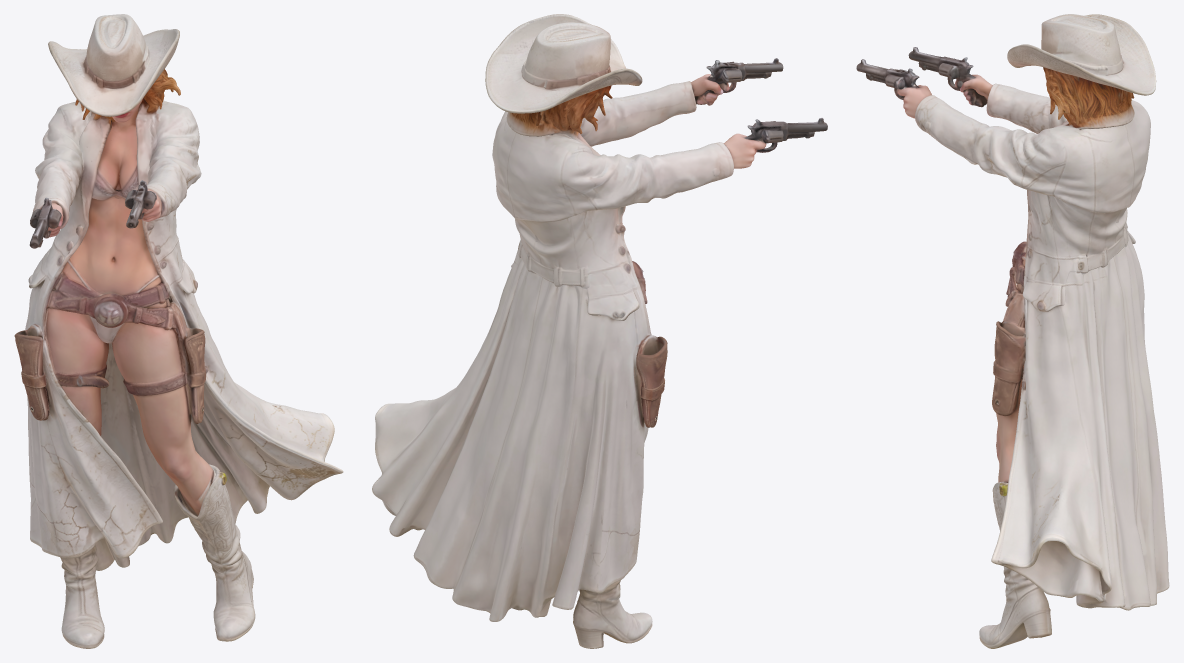
File: female-cowgirl-v4.glb
The picture shows the model from 3 angles, left to right: view 1: azimuth 30°, elevation 25°; view 2: azimuth 150°, elevation 25°; view 3: azimuth 270°, elevation 25°; orthographic projection. The views are drawn at different scales.
Visible parts, largest first — view 1: Mesh_0_modddif_material_0_0 (×2); view 2: Mesh_0_modddif_material_0_0 (×2); view 3: Mesh_0_modddif_material_0_0 (×2).
Part boxes in pixels (x1=…): Mesh_0_modddif_material_0_0 (×2): x1=14, y1=14, x2=343, y2=648; Mesh_0_modddif_material_0_0 (×2): x1=372, y1=14, x2=827, y2=648; Mesh_0_modddif_material_0_0 (×2): x1=856, y1=14, x2=1169, y2=648.
Size of the model in its own units: 0.6454 by 1 by 0.48.
1 material, 1 textured.
